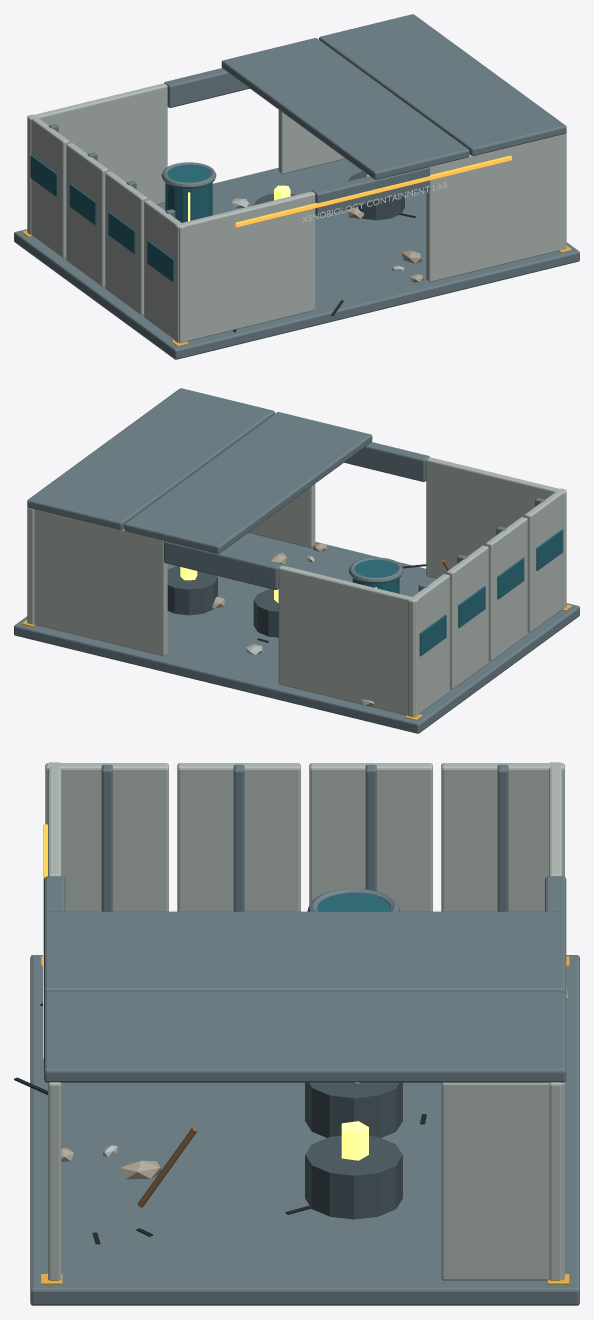
The model's file is research_xenobiology_d2.glb.
The picture shows the model from 3 angles, top to bottom: view 1: azimuth 30°, elevation 25°; view 2: azimuth 150°, elevation 25°; view 3: azimuth 270°, elevation 25°; orthographic projection. The views are drawn at different scales.
Visible parts, largest first — view 1: Foundation.014, Removable roof segment.038, End bulkhead.051, End bulkhead.050, Removable roof segment.039, End bulkhead.052, Side pressure panel.087, Side pressure panel.086, Side pressure panel.085, Side pressure panel.088, Door header.022, End bulkhead.053 (+10 smaller); view 2: Foundation.014, End bulkhead.052, Removable roof segment.038, End bulkhead.053, Removable roof segment.039, End bulkhead.050, Side pressure panel.086, Side pressure panel.087, Side pressure panel.088, Side pressure panel.085, Door header.023, End bulkhead.051 (+10 smaller); view 3: Foundation.014, Removable roof segment.039, Removable roof segment.038, Side pressure panel.089, Side pressure panel.086, Side pressure panel.087, Side pressure panel.088, Side pressure panel.085, Containment pedestal.008, Containment pedestal.007, End bulkhead.051, End bulkhead.053 (+10 smaller).
Boxes of the visible parts, x1,y1,x2,y2 form: Foundation.014: [14, 159, 579, 359]; Removable roof segment.038: [221, 38, 469, 179]; End bulkhead.051: [426, 133, 566, 282]; End bulkhead.050: [175, 191, 315, 342]; Removable roof segment.039: [319, 14, 566, 156]; End bulkhead.052: [27, 83, 167, 234]; Side pressure panel.087: [66, 143, 108, 286]; Side pressure panel.086: [105, 171, 147, 315]; Side pressure panel.085: [144, 200, 185, 343]; Side pressure panel.088: [27, 114, 69, 258]; Door header.022: [311, 167, 429, 215]; End bulkhead.053: [278, 110, 345, 174]; Foundation.014: [14, 533, 579, 733]; End bulkhead.052: [278, 565, 418, 716]; Removable roof segment.038: [124, 412, 372, 553]; End bulkhead.053: [27, 507, 167, 656]; Removable roof segment.039: [27, 388, 274, 530]; End bulkhead.050: [426, 457, 566, 608]; Side pressure panel.086: [485, 517, 527, 660]; Side pressure panel.087: [446, 545, 488, 689]; Side pressure panel.088: [408, 574, 449, 717]; Side pressure panel.085: [524, 488, 566, 632]; Door header.023: [164, 541, 282, 589]; End bulkhead.051: [248, 484, 315, 548]; Foundation.014: [30, 955, 579, 1305]; Removable roof segment.039: [44, 992, 566, 1082]; Removable roof segment.038: [44, 911, 566, 994]; Side pressure panel.089: [441, 1082, 564, 1280]; Side pressure panel.086: [177, 763, 300, 911]; Side pressure panel.087: [309, 763, 432, 911]; Side pressure panel.088: [441, 763, 564, 911]; Side pressure panel.085: [45, 763, 168, 911]; Containment pedestal.008: [305, 1135, 402, 1219]; Containment pedestal.007: [305, 1082, 402, 1137]; End bulkhead.051: [48, 1082, 61, 1280]; End bulkhead.053: [549, 1082, 561, 1280].
Bounding box in the file's own units: 13 × 4.15 × 9.27.
